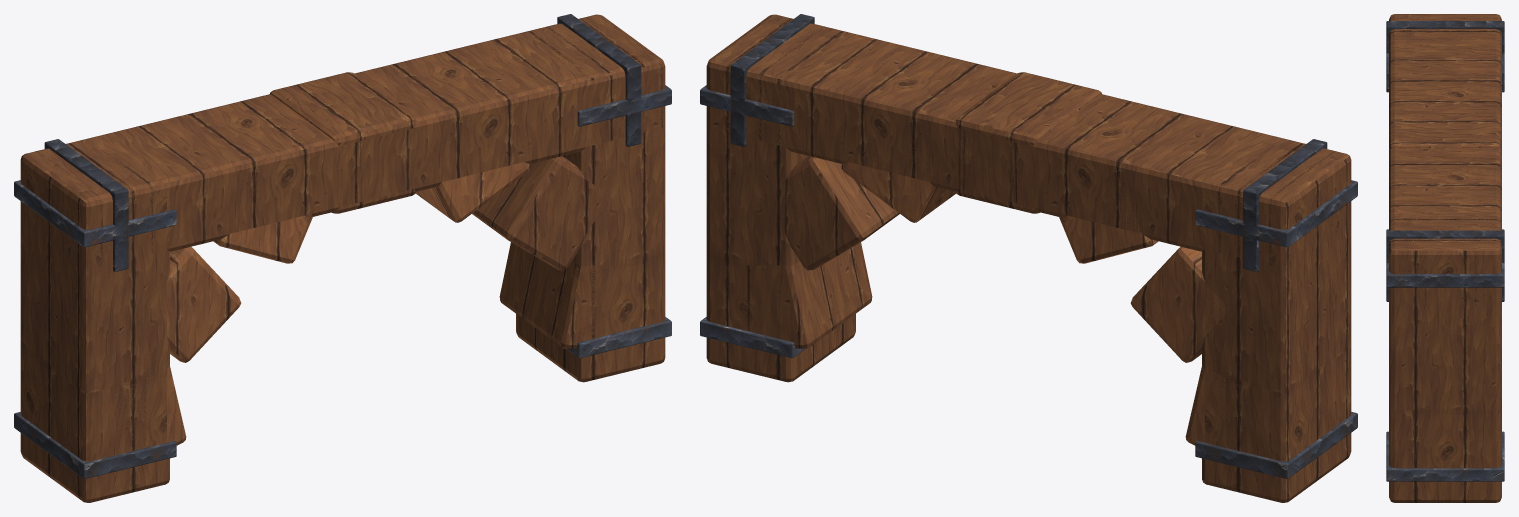
Rendered from arch__plank_root.glb.
3 views of the same model, side by side, from view 1: azimuth 30°, elevation 25°; view 2: azimuth 150°, elevation 25°; view 3: azimuth 270°, elevation 25° (orthographic). The views are drawn at different scales.
Visible parts, largest first — view 1: model; view 2: model; view 3: model.
Boxes of the visible parts, left/top/right/bottom form: model: left=14, top=14, right=671, bottom=502; model: left=700, top=14, right=1357, bottom=502; model: left=1386, top=14, right=1504, bottom=502.
Bounding box in the file's own units: 2.02 × 1.01 × 0.42.
6 materials, 6 textured.
